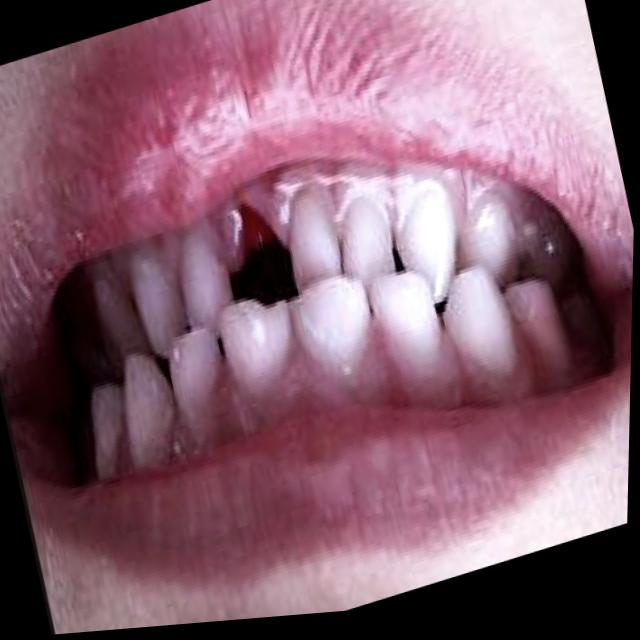hypodontia: (210, 188, 308, 314)
